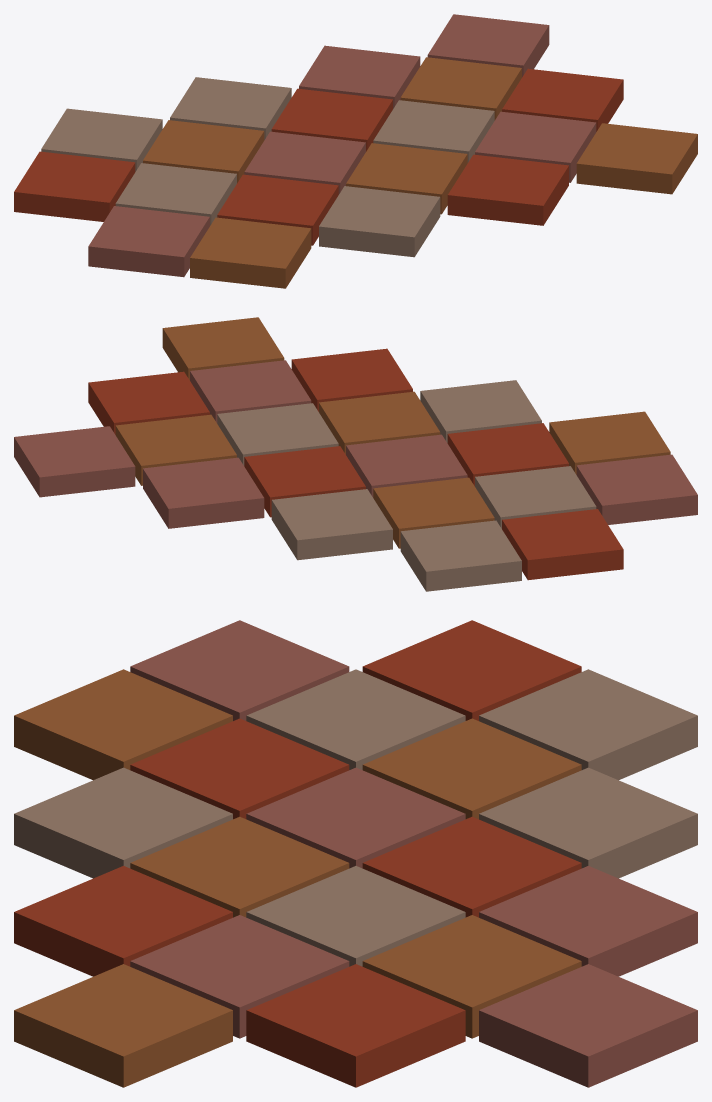
Rendered from Weg Lava.fbx.
The picture shows the model from 3 angles, top to bottom: view 1: azimuth 30°, elevation 25°; view 2: azimuth 150°, elevation 25°; view 3: azimuth 270°, elevation 25°; orthographic projection. The views are drawn at different scales.
Parts seen in each view (by area): view 1: Cube.004; view 2: Cube.004; view 3: Cube.004.
Boxes of the visible parts, left/top/right/bottom form: Cube.004: left=14, top=14, right=697, bottom=288; Cube.004: left=14, top=317, right=697, bottom=591; Cube.004: left=14, top=620, right=697, bottom=1087.
Size of the model in its own units: 447 by 14.91 by 296.
